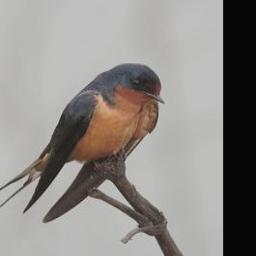Swallow: (0, 61, 167, 222)
